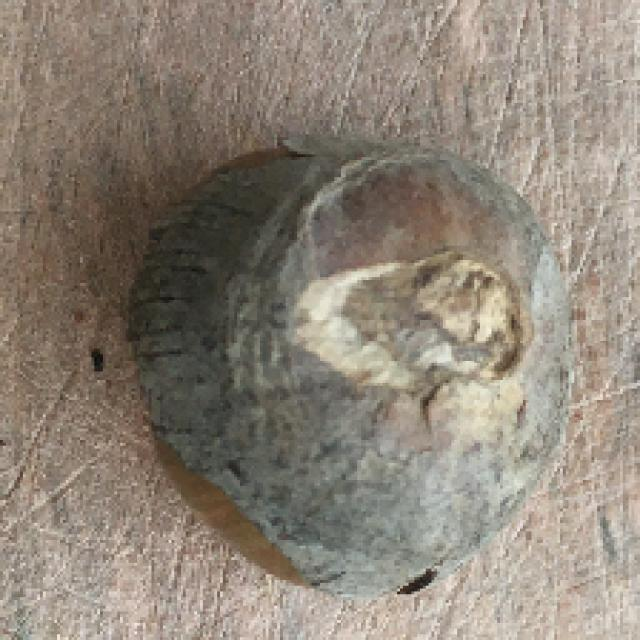damagedHazelnut: (132, 118, 576, 607)
